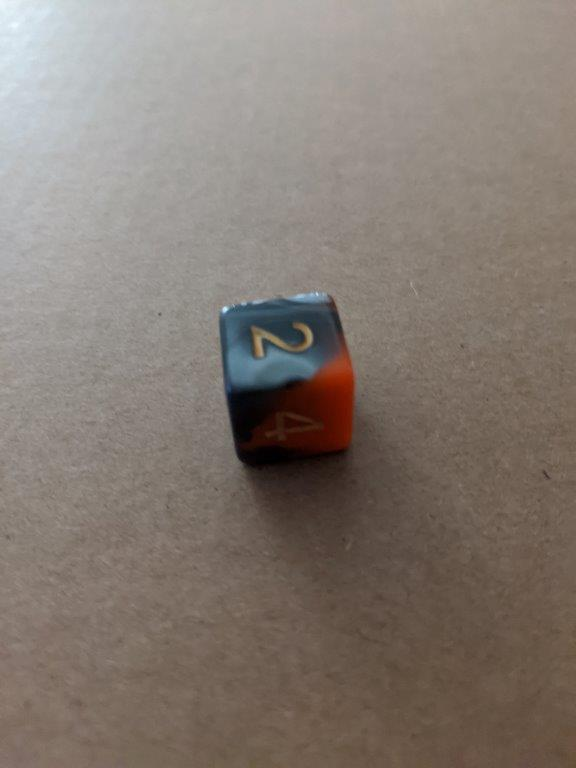d6-2: (216, 291, 357, 466)
